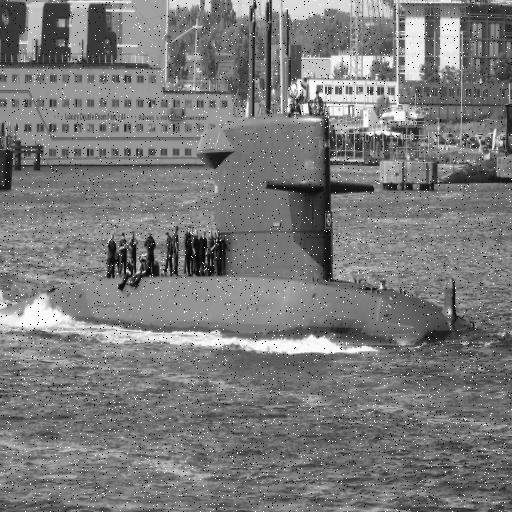submarine: (1, 1, 479, 350)
